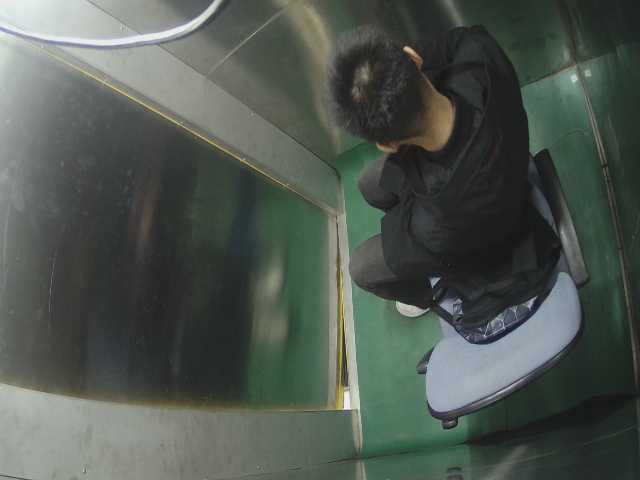chair: (410, 150, 585, 440)
person: (308, 15, 537, 303)
